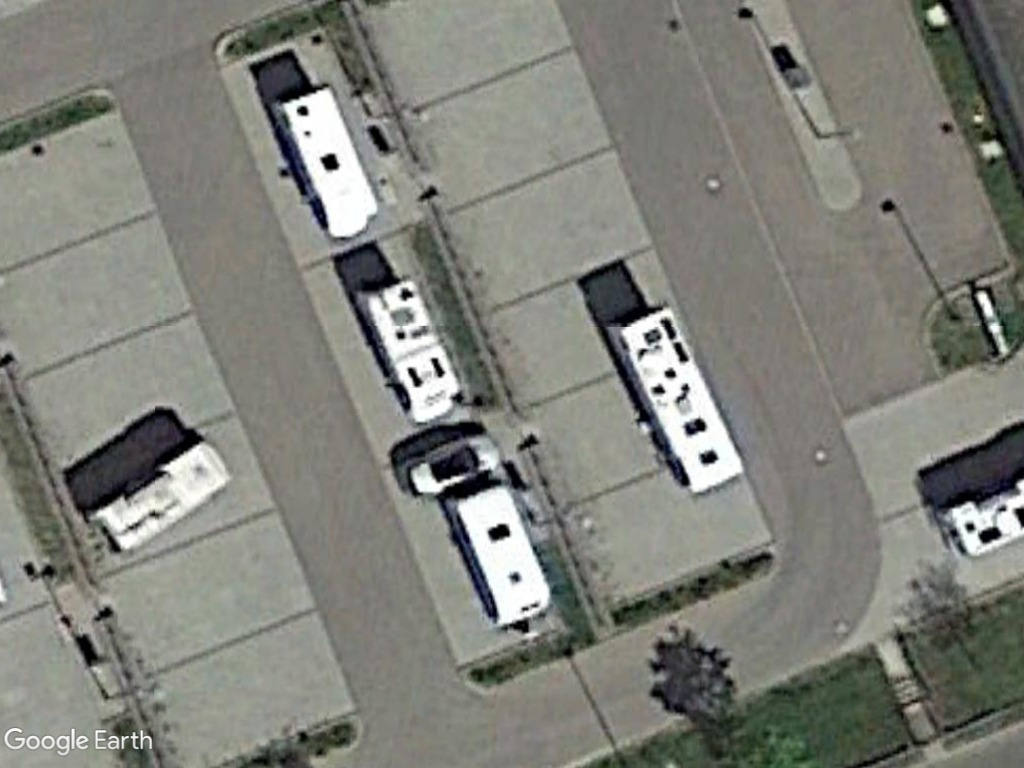bus: (605, 302, 747, 498), (271, 82, 384, 250), (351, 276, 466, 432), (448, 480, 552, 623)
